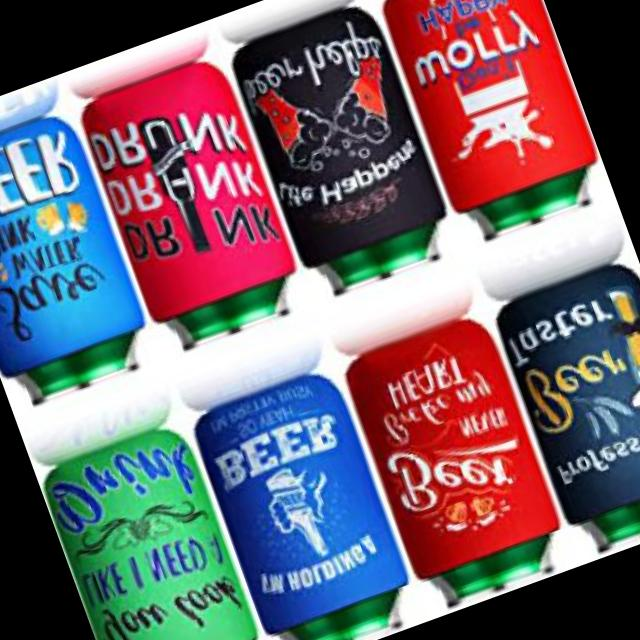Kaleng: (336, 312, 577, 620), (72, 52, 312, 360), (223, 0, 462, 306), (185, 365, 424, 640), (373, 0, 614, 252), (35, 420, 274, 640), (0, 109, 160, 417), (487, 256, 640, 565)
